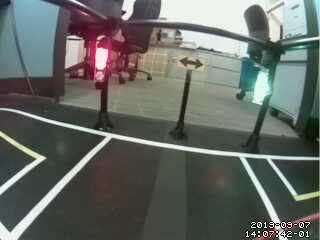Left_Right_sign: (176, 51, 207, 72)
Traffic_light_green: (251, 70, 273, 109)
Traffic_light_red: (93, 45, 111, 83)
